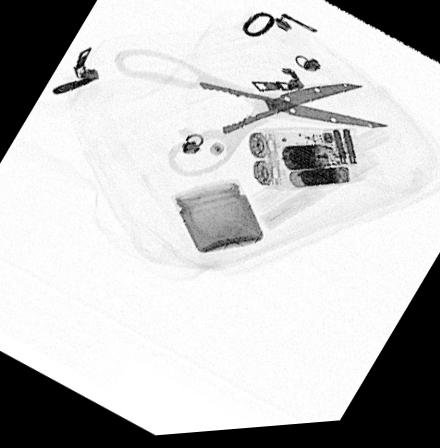Scissors: (112, 49, 388, 181)
